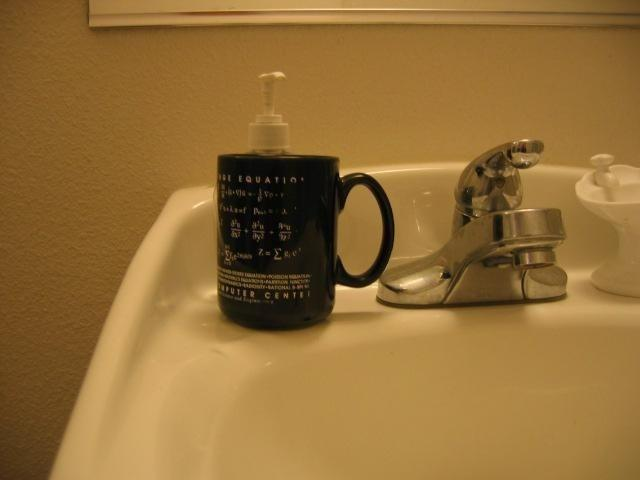cup-handle: (213, 151, 395, 330)
